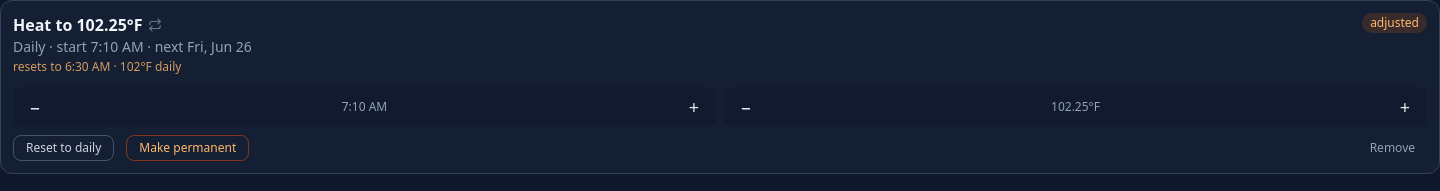
Test: EventCard overridden ("adjusted") card management › hides Reset to daily and Make permanent while the card is dirty
Check: the button with test id "event-reset" is shown, box [13,135,114,161]
Check: the button with test id "event-make-permanent" is shown, box [126,135,249,161]
# Dirty: Save/Discard take over the row.
Step 1. Click the button named "15 minutes later" → (694, 107), box [680,93,708,121]
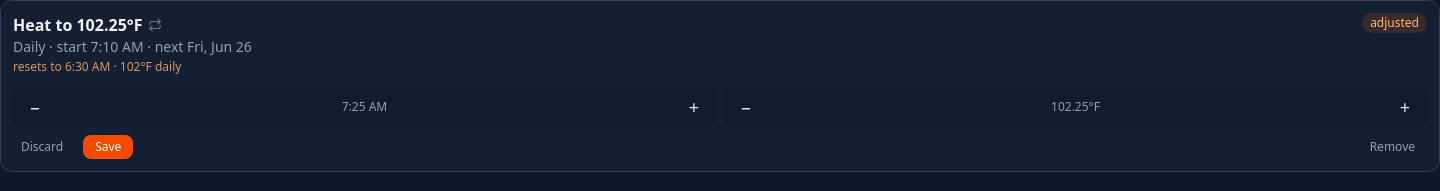
Check: the button with test id "event-reset" is gone
Check: the button with test id "event-make-permanent" is gone
Check: the button with test id "event-oneoff-save" is shown, box [83,135,133,159]
